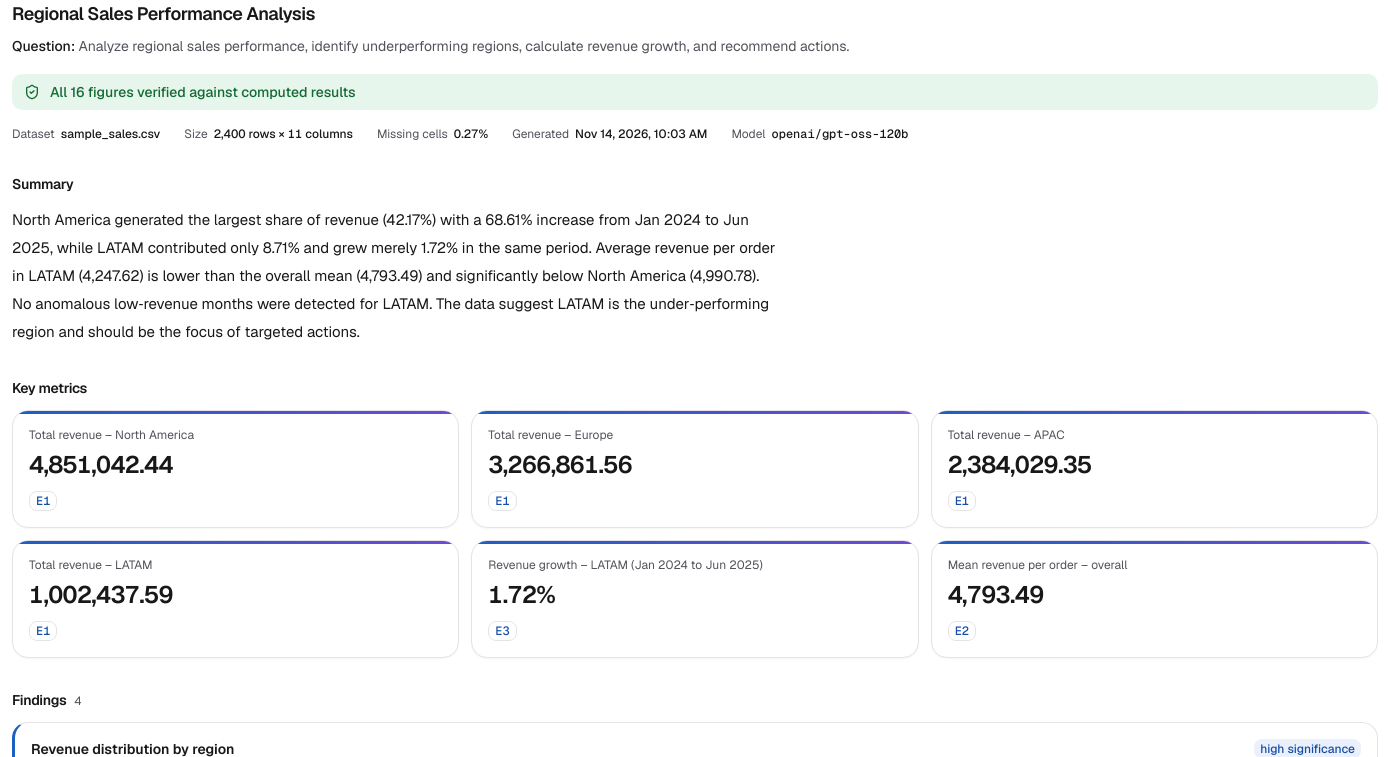
Test case: ReportView with the real sample report › opens the cited evidence record when a chip is clicked
Expected: the text "Overall metrics over 2400 rows." is not shown
The overall mean revenue per order metric cites E2.
What coordinates should you click on to do the following:
click the button named "Show evidence E2"
I would click on:
 (962, 631)
Its box is [948,621,976,641].
(page scrolled)
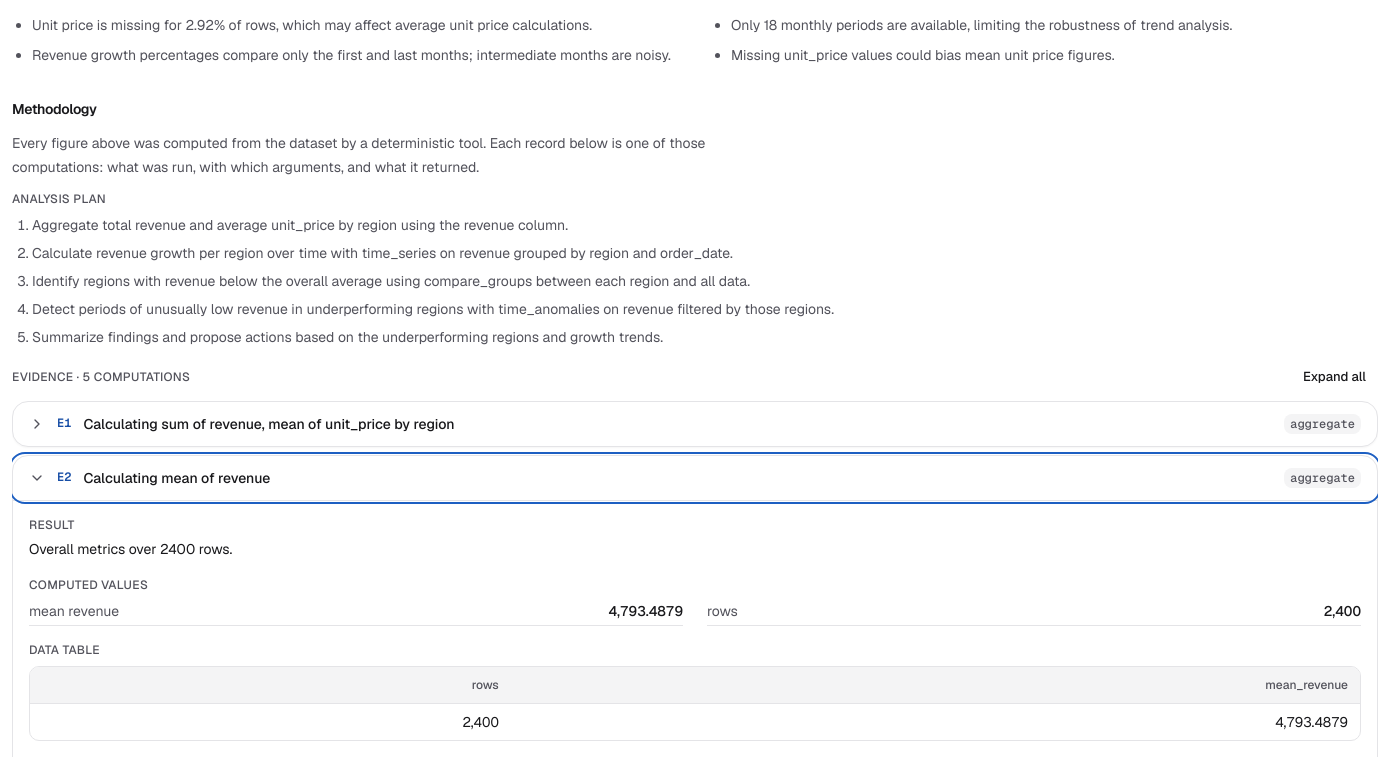
Expected: the button "E2 Calculating mean of revenue aggregate" is expanded, [13,456,1377,500]
Expected: the text "Overall metrics over 2400 rows." is shown, [29,540,232,558]
Expected: the column headings read "rows", "mean_revenue", in this order, [30,667,511,703]; [511,667,1360,703]
